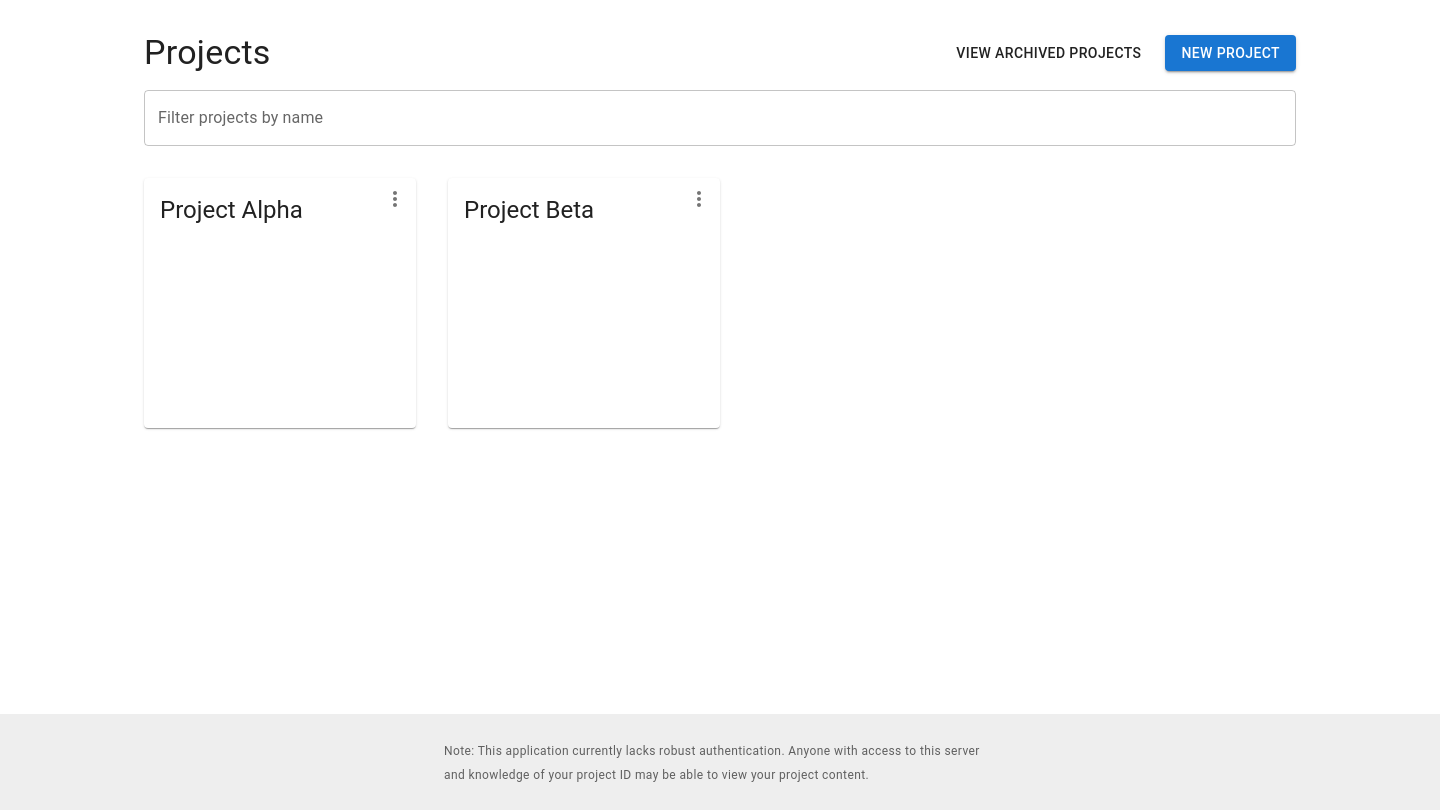
Test: ProjectGrid › should open the rename modal
Expected: the text "Project Alpha" is shown, [160,196,303,224]
Step 1. Click the button named "project actions" next to "Project Alpha" → (395, 199), box [378,182,412,216]
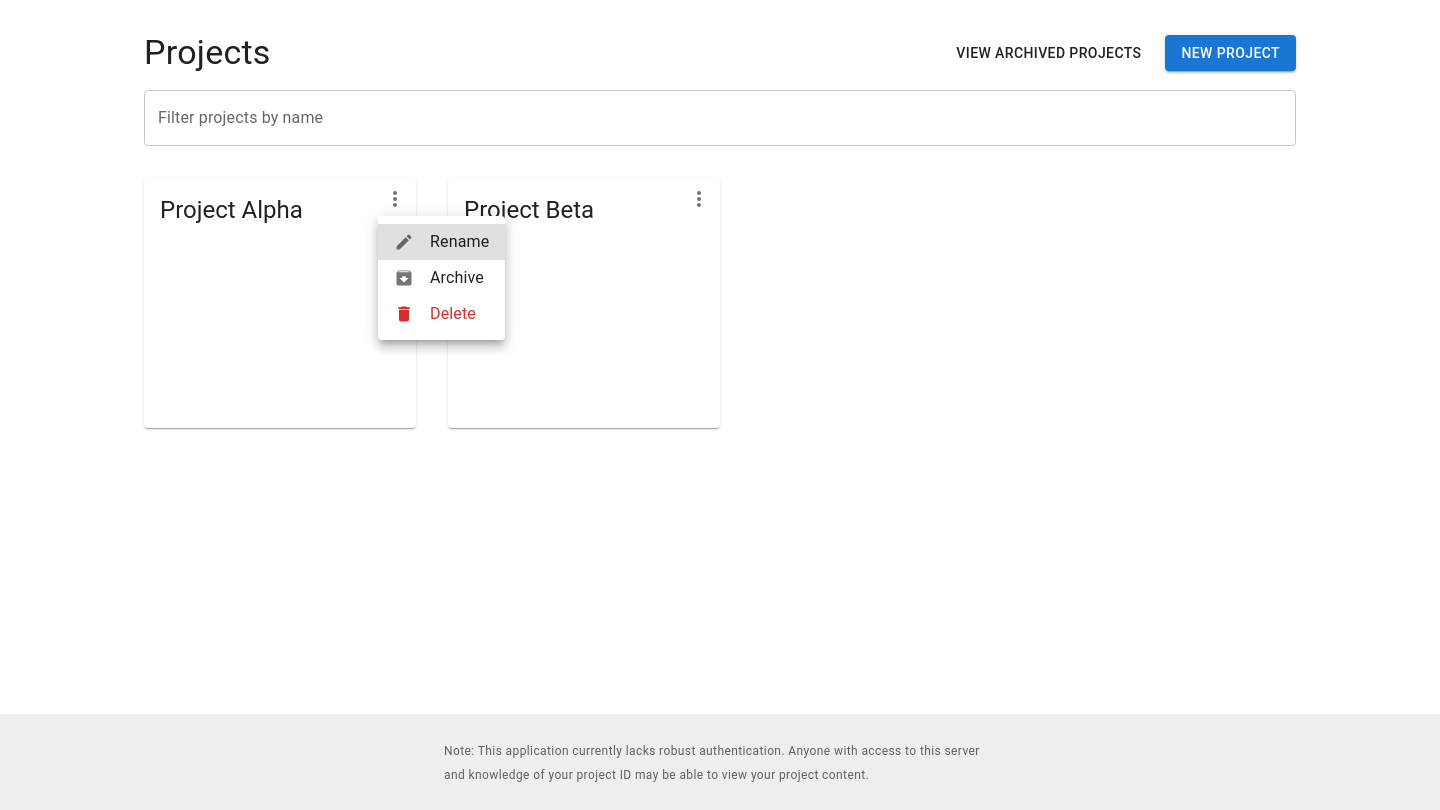
Step 2. Click the menu item "Rename" → (442, 242), box [378,224,505,260]
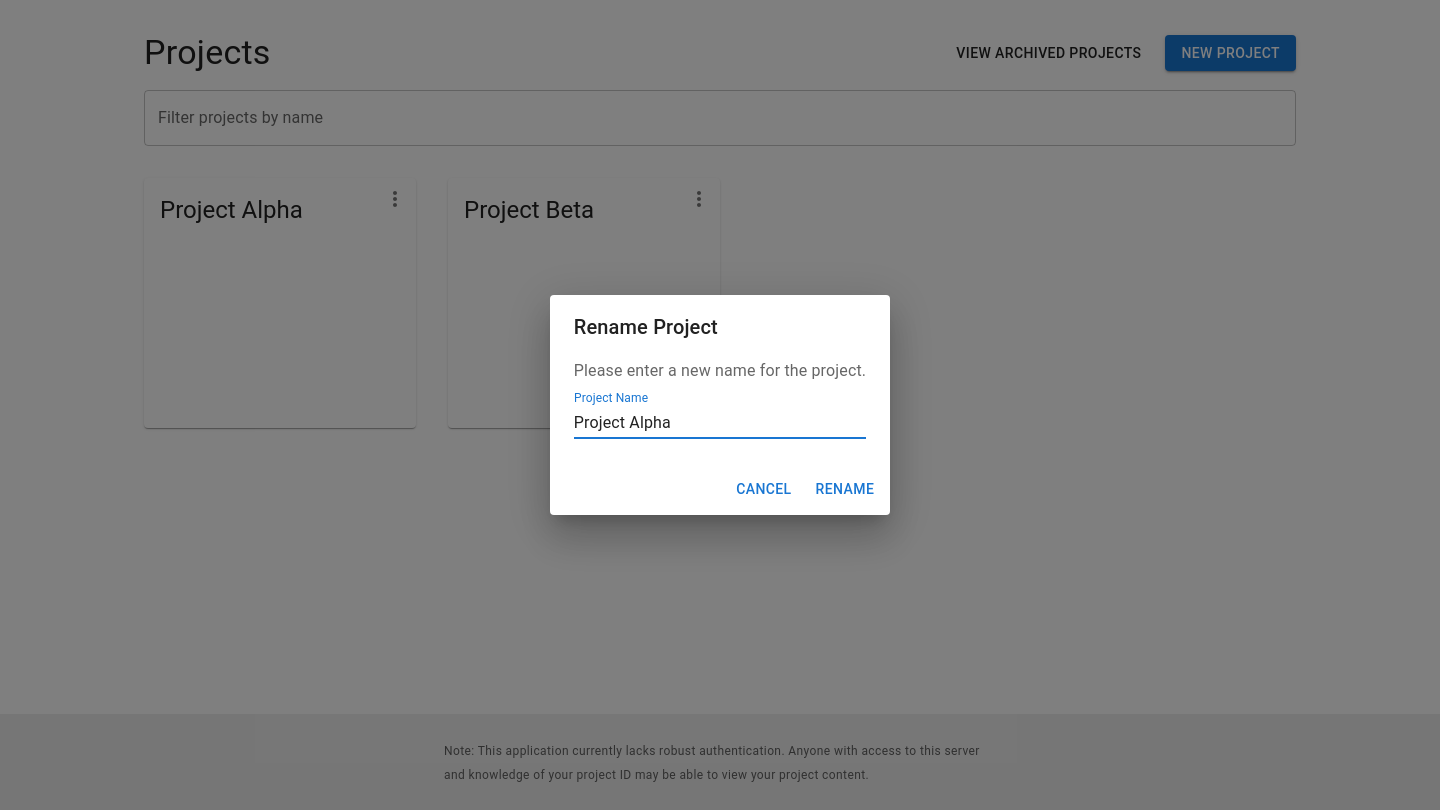
Expected: the heading "Rename Project" is shown, [574,315,718,339]
